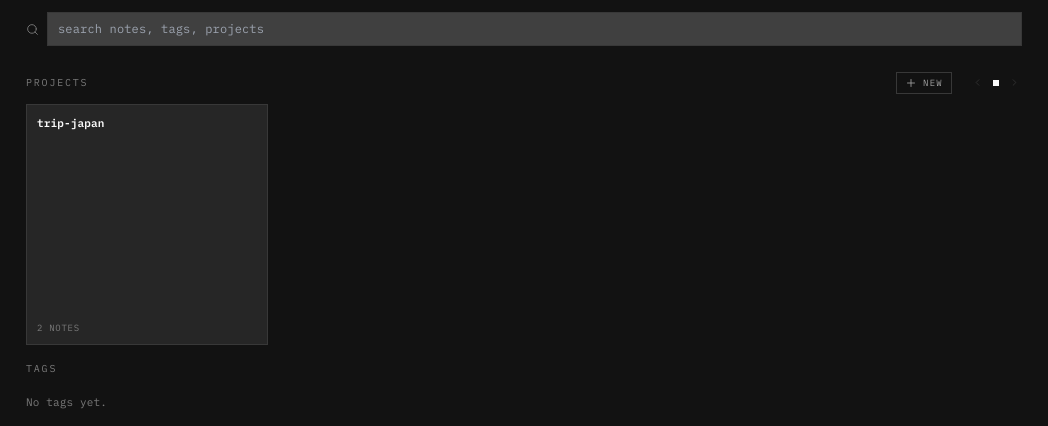
Test: BrowseView — P3-C3 kebab menu (mirrors NoteEditor.tsx's 'More' menu exactly) › renders exactly Rename / Set description / Delete project, in that order, Delete last and danger-styled
Click the text "trip-japan" at [71, 123], box 37,114 -> 105,131
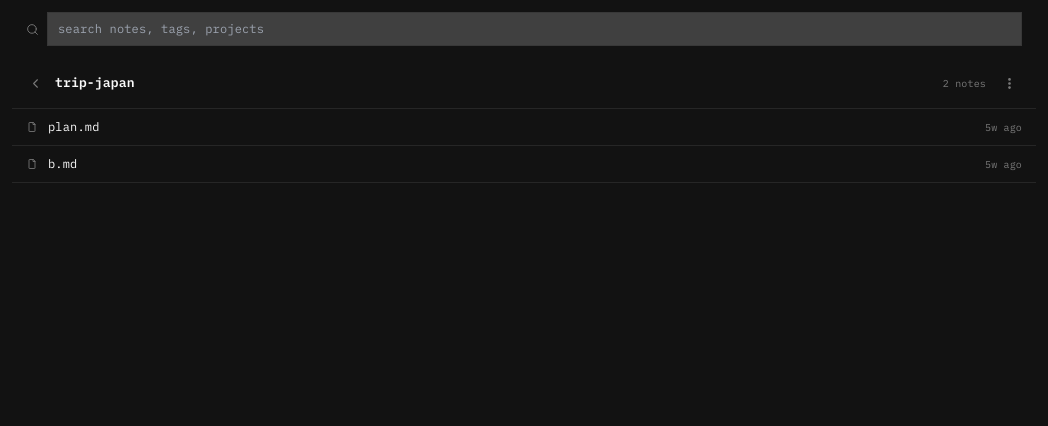
Expected: the heading "trip-japan" is shown, 55,73 -> 135,93
Expected: the text "plan.md" is shown, 48,119 -> 100,134
Click the button named "Project actions" at [1009, 83], box 996,70 -> 1022,96
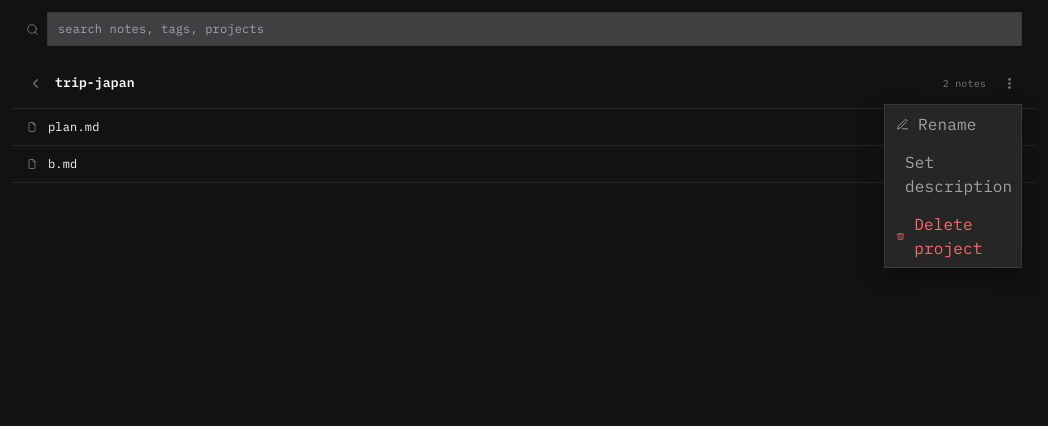
Expected: the menu items read "Rename", "Set description", "Delete project", in this order, 885,105 -> 1021,143; 885,143 -> 1021,205; 885,205 -> 1021,267
